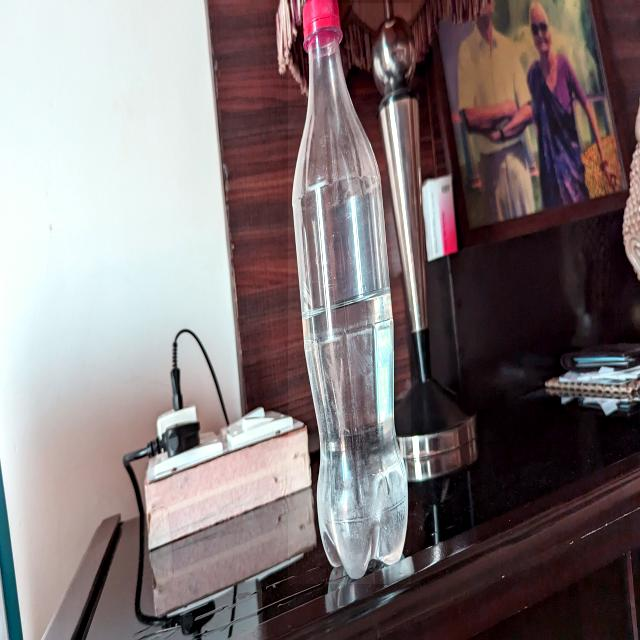half-bottle: (288, 3, 411, 584)
